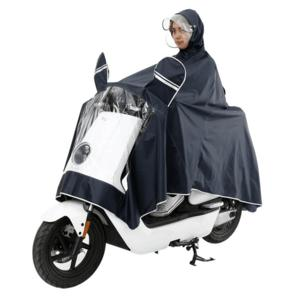电动车: (28, 54, 268, 291)
